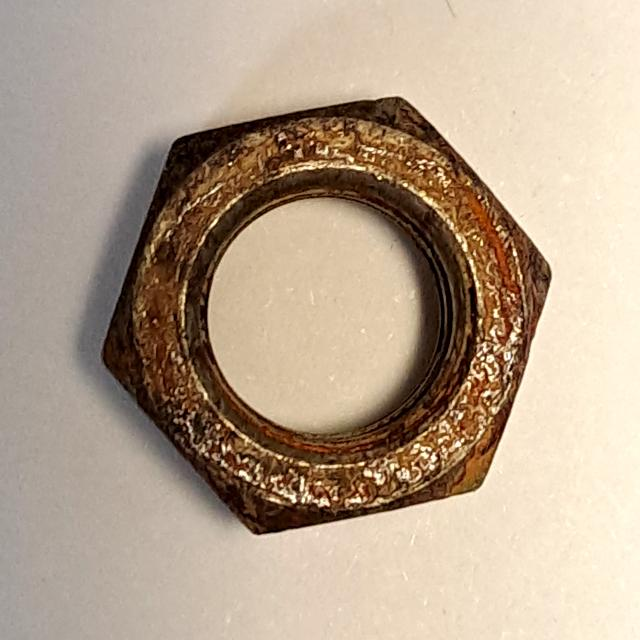Rust: (85, 77, 562, 544)
